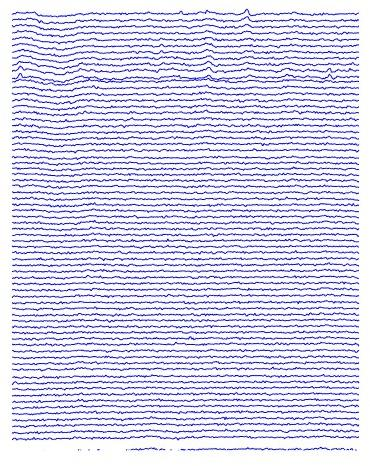defect: (236, 5, 253, 30)
